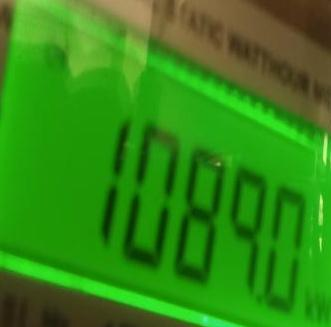0: (252, 288, 266, 310)
1: (124, 129, 180, 273), (265, 187, 306, 316)
2: (92, 112, 134, 254)
9: (173, 145, 230, 290)
:: (222, 164, 271, 291)
